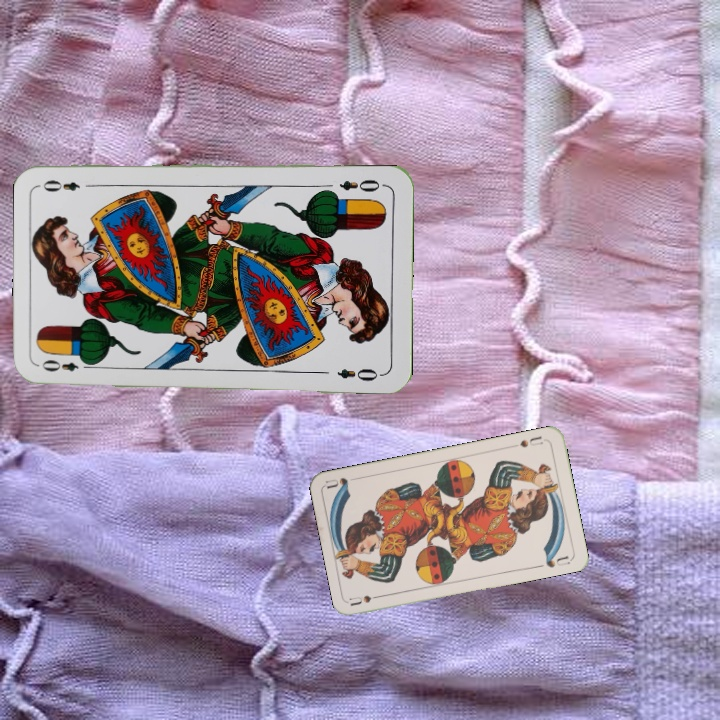EO: (38, 355, 96, 374), (335, 175, 387, 195)
SU: (347, 590, 387, 608), (508, 432, 546, 450)
